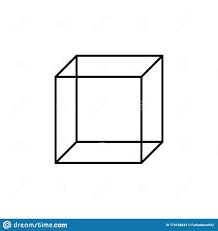cubos: (48, 51, 169, 169)
